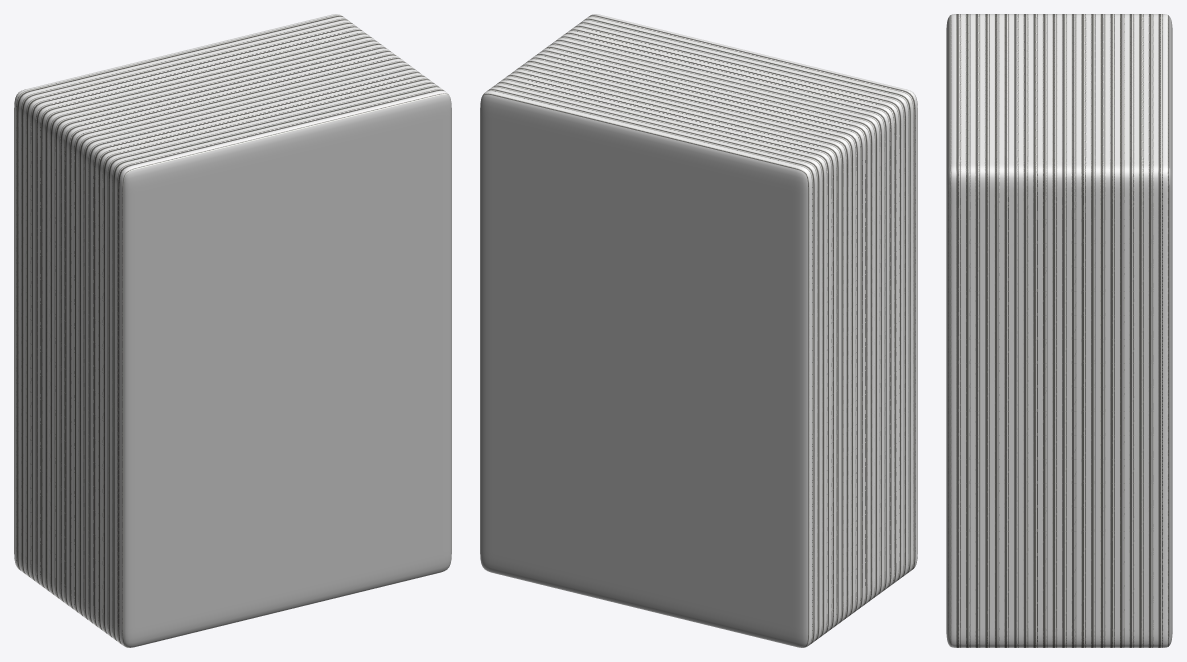
File: DeckModel.fbx
3 views of the same model, side by side, from view 1: azimuth 30°, elevation 25°; view 2: azimuth 150°, elevation 25°; view 3: azimuth 270°, elevation 25° (orthographic).
Parts seen in each view (by area): view 1: pCube3; view 2: pCube3; view 3: pCube3.
Part boxes in pixels (left/top/right/bottom): pCube3: left=14, top=14, right=451, bottom=647; pCube3: left=480, top=14, right=917, bottom=647; pCube3: left=946, top=14, right=1172, bottom=647.
Bounding box in the file's own units: 16000 × 22250 × 9500.
